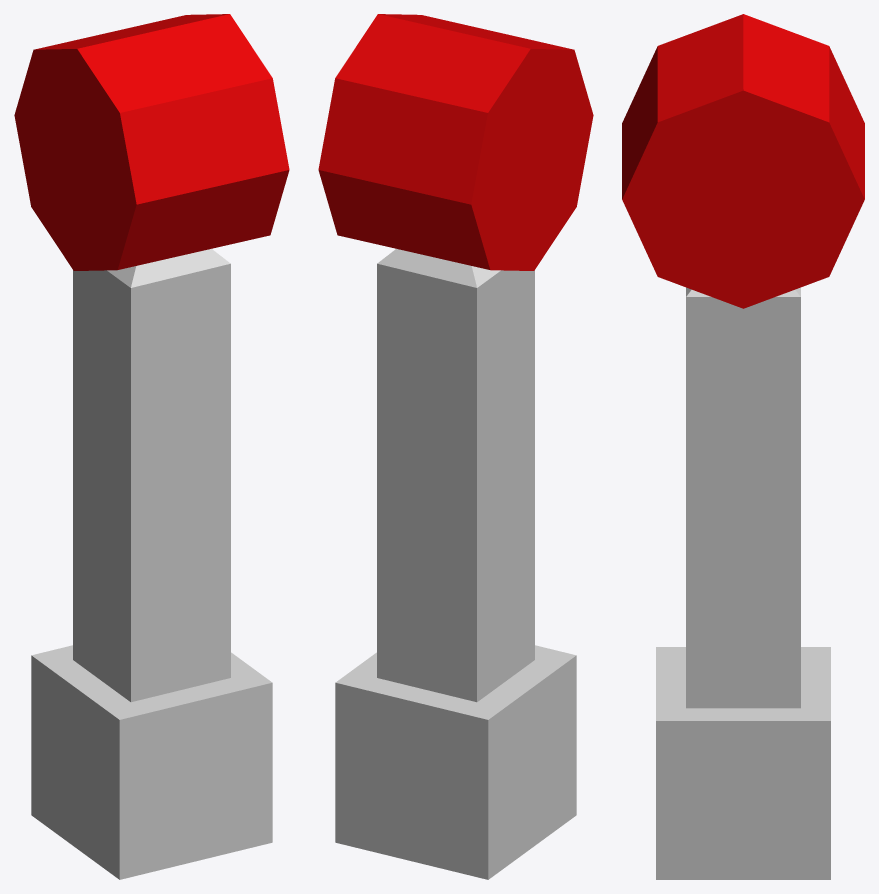
The model's file is stopsign 1.fbx.
3 renders of one model, left to right at view 1: azimuth 30°, elevation 25°; view 2: azimuth 150°, elevation 25°; view 3: azimuth 270°, elevation 25°, orthographic.
Parts seen in each view (by area): view 1: Cube, Cylinder.001; view 2: Cube, Cylinder.001; view 3: Cube, Cylinder.001.
Boxes of the visible parts, x1,y1,x2,y2 form: Cube: (31,249,272,879); Cylinder.001: (14,14,289,270); Cube: (335,249,576,879); Cylinder.001: (318,14,593,270); Cube: (656,287,830,879); Cylinder.001: (622,14,864,308).
Size of the model in its own units: 204 by 998 by 277.
